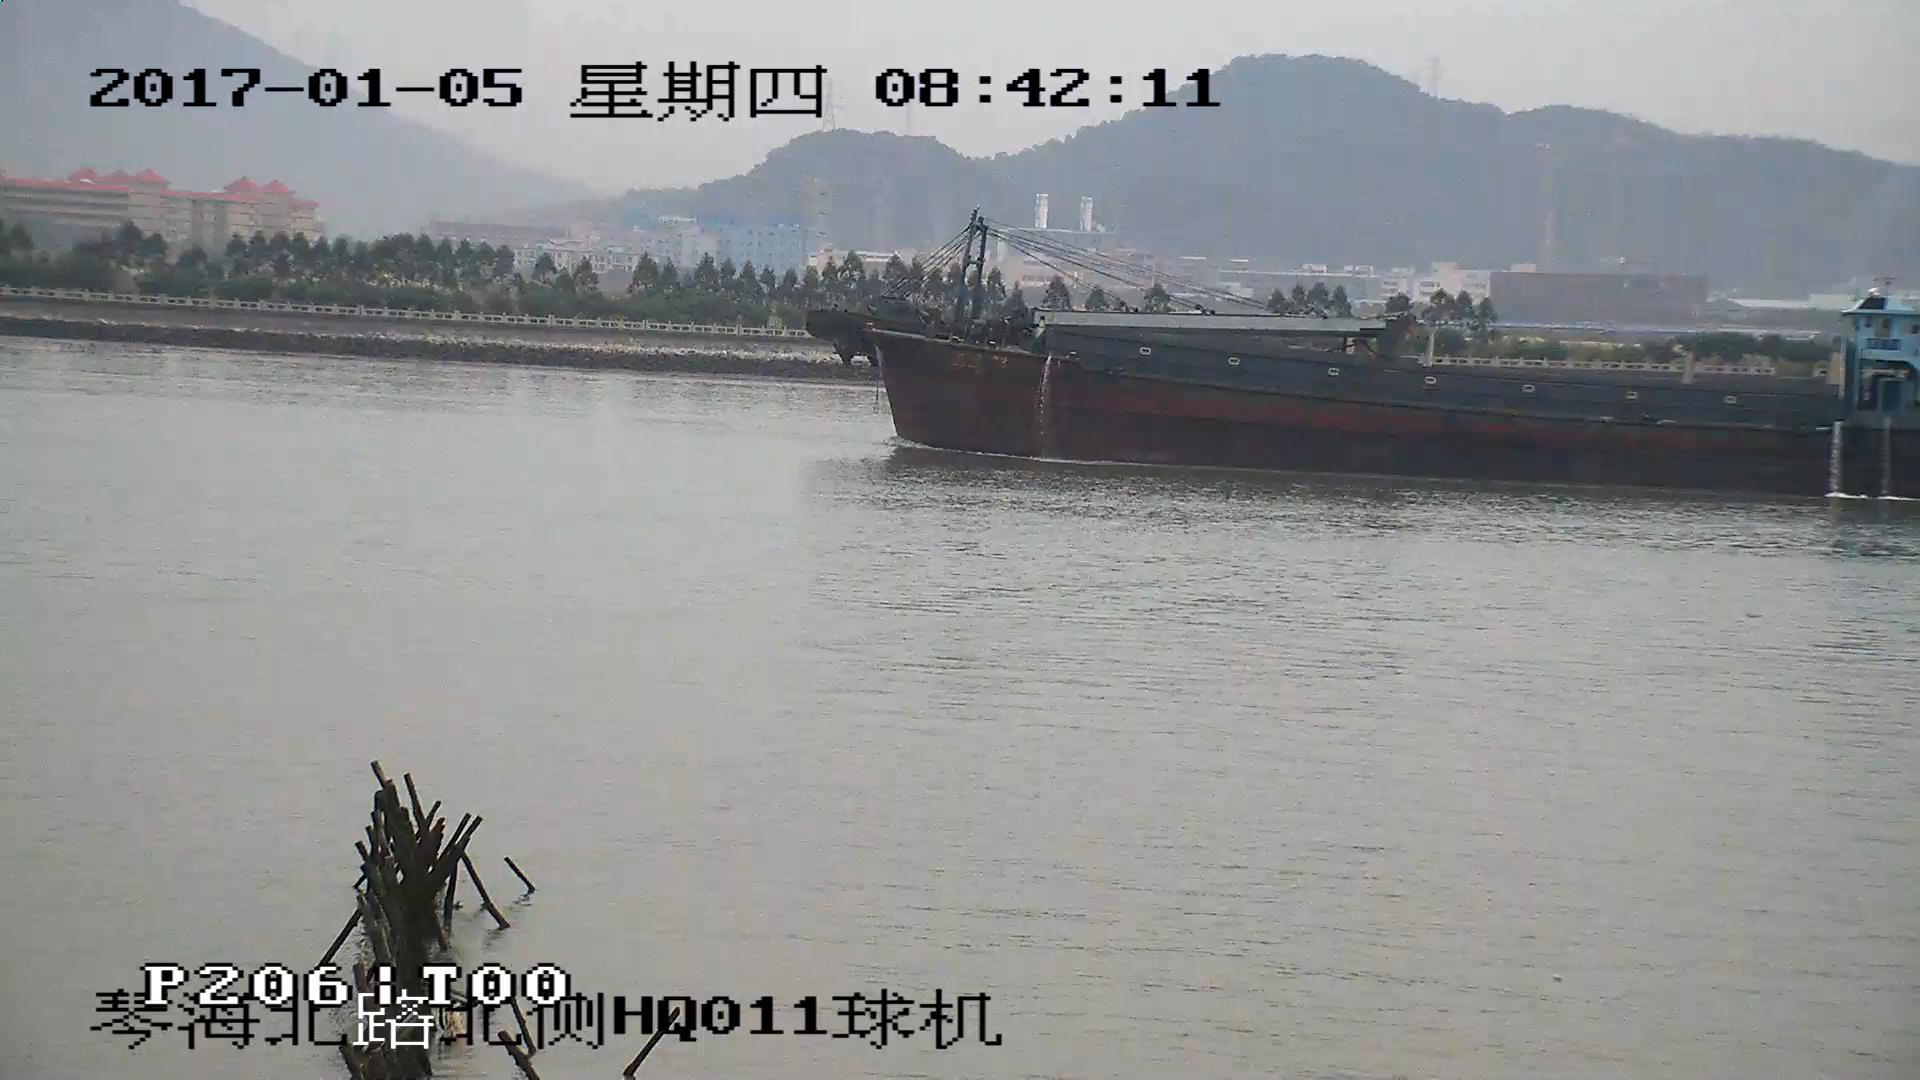Ship: (804, 215, 1920, 502)
